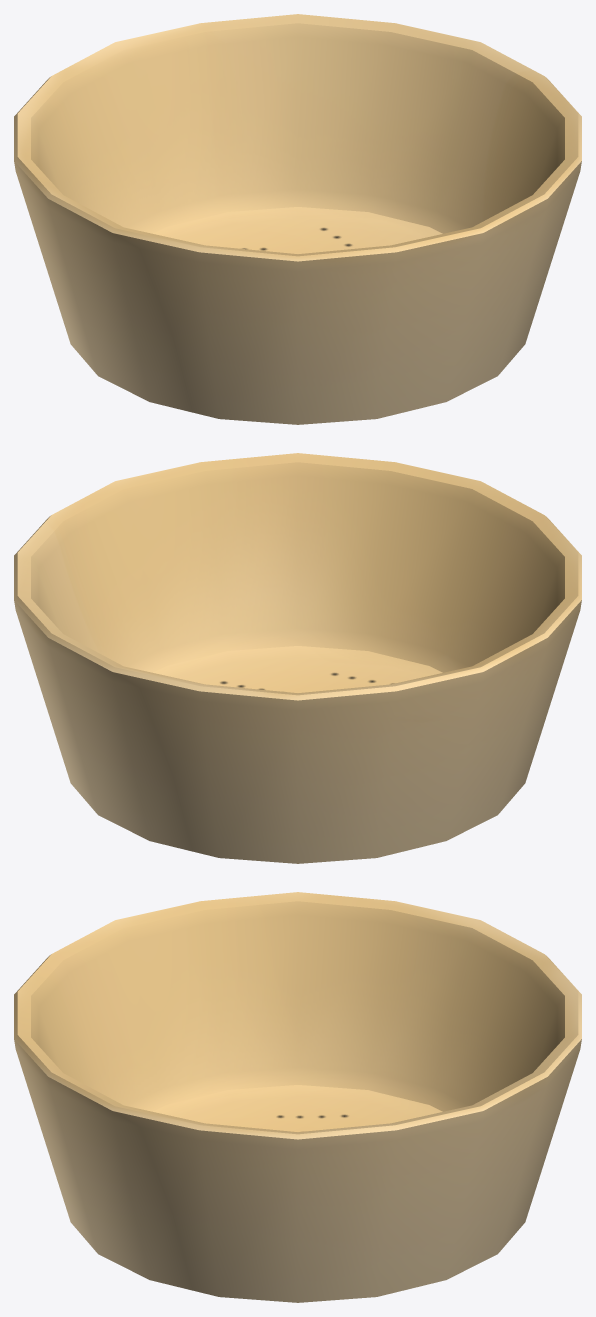
The model's file is Crust.FBX.
The picture shows the model from 3 angles, top to bottom: view 1: azimuth 30°, elevation 25°; view 2: azimuth 150°, elevation 25°; view 3: azimuth 270°, elevation 25°; orthographic projection.
Parts seen in each view (by area): view 1: Cylinder001; view 2: Cylinder001; view 3: Cylinder001.
Part boxes in pixels (x1,y1,x2,y2): Cylinder001: (14,14,581,424); Cylinder001: (14,453,581,863); Cylinder001: (14,892,581,1302).
Bounding box in the file's own units: 28.01 × 10.35 × 27.59.
